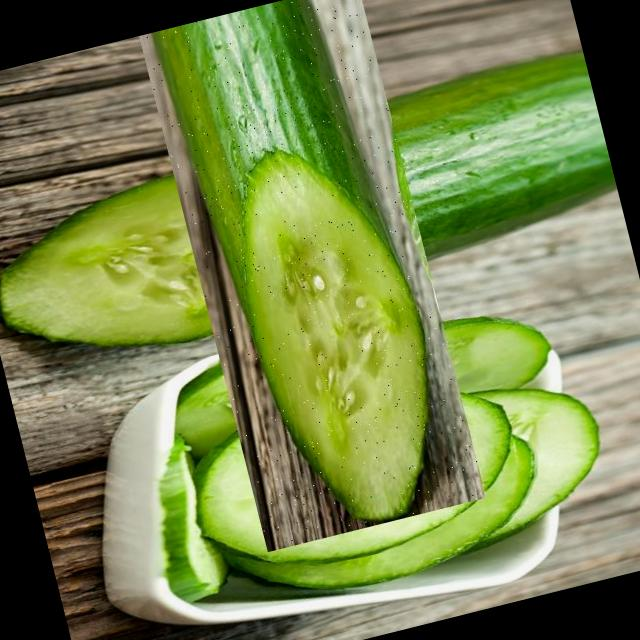Cucumber: (165, 0, 423, 379)
